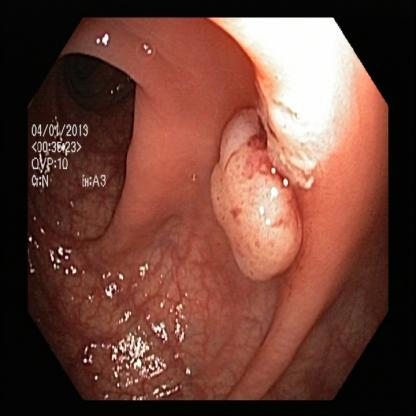Labels: (30, 106, 108, 202)
Polyps: (205, 108, 306, 278)
